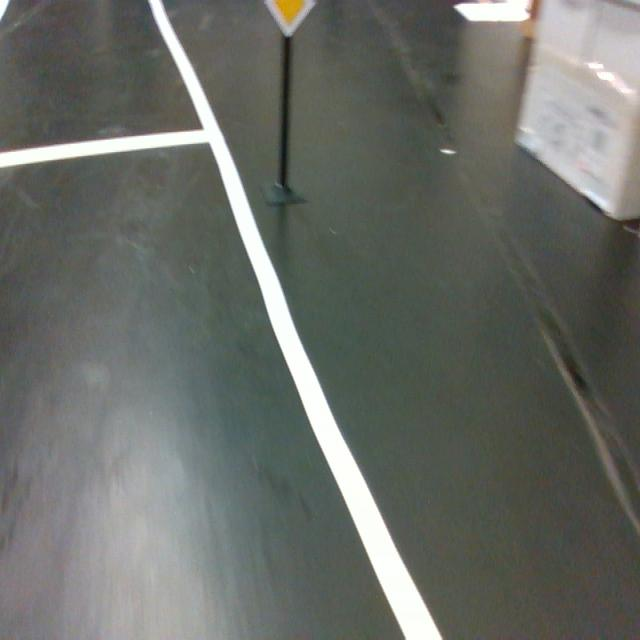priority-sign: (262, 0, 318, 38)
